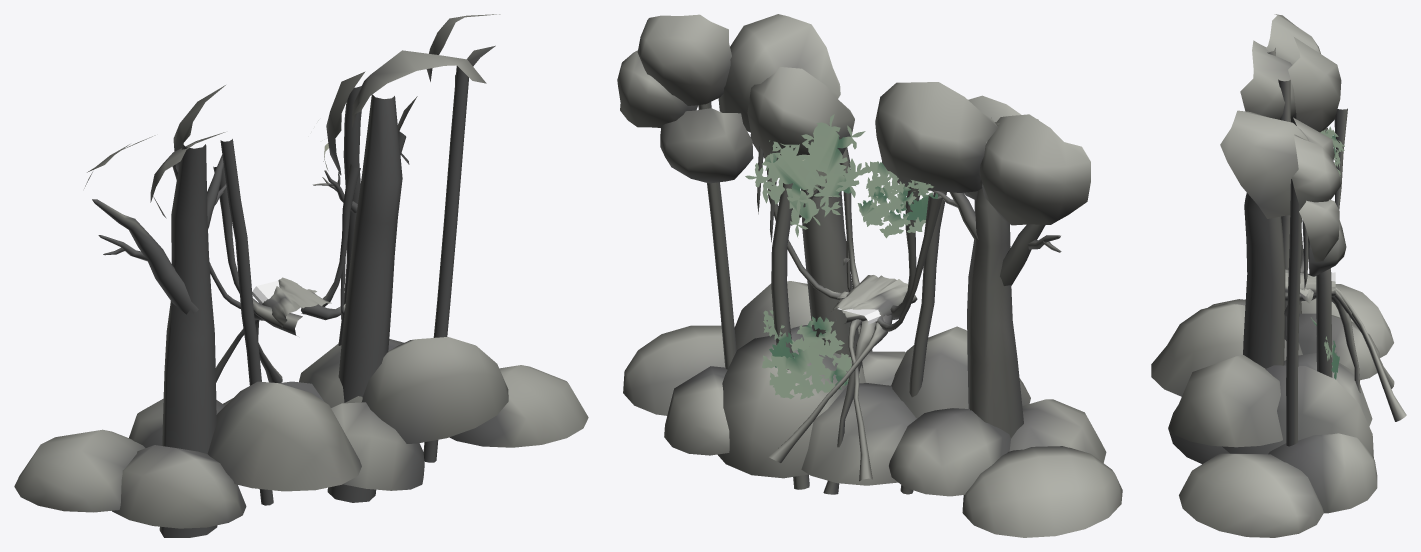
Rendered from Jungle_Canopy_Ledge_Left_End_A.glb.
3 views of the same model, side by side, from view 1: azimuth 30°, elevation 25°; view 2: azimuth 150°, elevation 25°; view 3: azimuth 270°, elevation 25° (orthographic). The views are drawn at different scales.
Parts seen in each view (by area): view 1: Jungle_Canopy_Ledge_Left_End_A; view 2: Jungle_Canopy_Ledge_Left_End_A; view 3: Jungle_Canopy_Ledge_Left_End_A.
Boxes of the visible parts, bbox=[...] form: Jungle_Canopy_Ledge_Left_End_A: bbox=[14, 14, 588, 537]; Jungle_Canopy_Ledge_Left_End_A: bbox=[617, 14, 1122, 537]; Jungle_Canopy_Ledge_Left_End_A: bbox=[1151, 14, 1406, 537].
Size of the model in its own units: 37.48 by 30.06 by 17.45.
